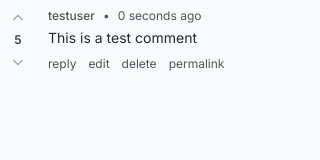
Test case: CommentItem - Focus Feature › Permalink Functionality › should handle clipboard write failure
Click the button "permalink" at (196, 64), box x1=169 y1=56 x2=224 y2=72
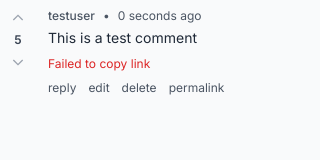
Expected: the text "Failed to copy link" is shown, x1=48 y1=56 x2=150 y2=71
